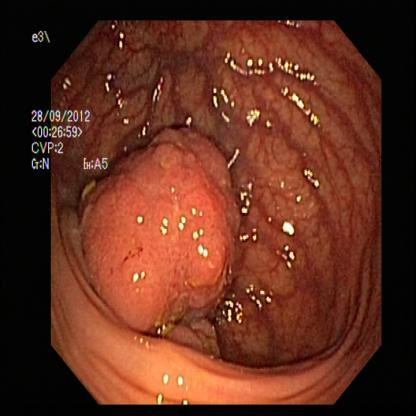Labels: (27, 102, 122, 177), (20, 16, 64, 59)
Polyps: (86, 172, 228, 318)
